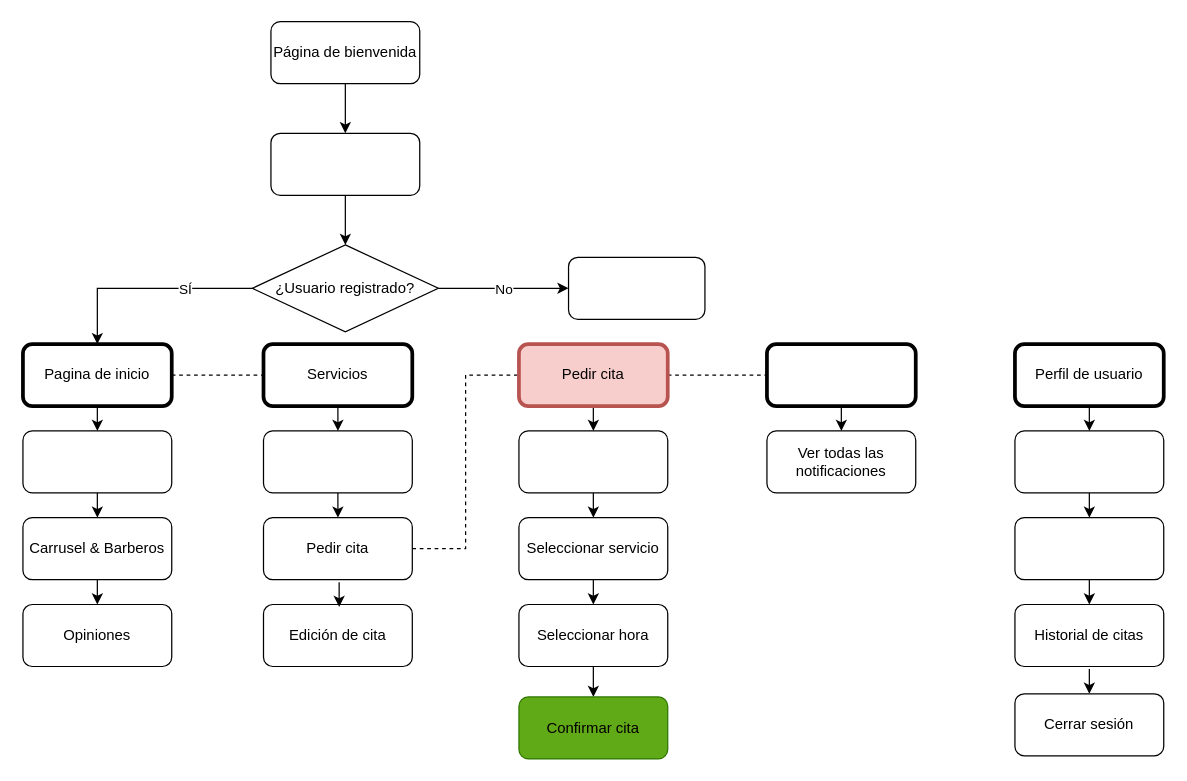
Some shapes in this 1187 by 781 pixel diagram are drawn without their labels. The box of each missing label's shape, as (x1, y1, x2, y2) in pixels:
Calendario de citas: (262, 430, 412, 493)
Editar Perfil: (1014, 430, 1164, 493)
Formulario de login: (270, 132, 420, 195)
Notificaciones: (764, 342, 917, 407)
Puntos de app: (1014, 516, 1164, 580)
Registro: (567, 256, 705, 319)
Seleccionar de barbero: (518, 430, 668, 493)
Sobre Nosotros: (22, 430, 172, 493)
